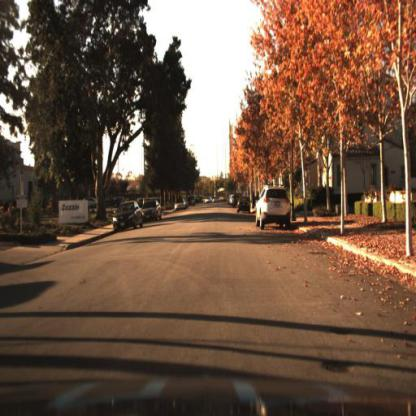car: (255, 178, 297, 234), (109, 198, 145, 239), (144, 199, 165, 227), (237, 194, 255, 217), (173, 196, 188, 215)
